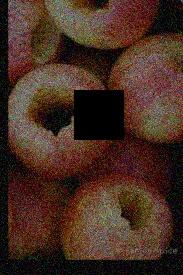rotten apple: (9, 63, 108, 170), (118, 179, 159, 235)
